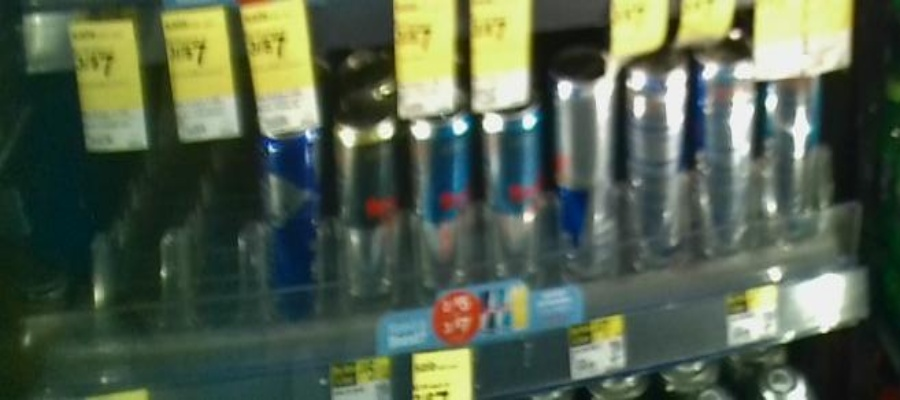bottle: (548, 41, 615, 289), (623, 48, 690, 282), (403, 87, 470, 309), (478, 85, 540, 311), (333, 111, 399, 321), (260, 111, 327, 315), (699, 50, 760, 274), (764, 39, 822, 256)
